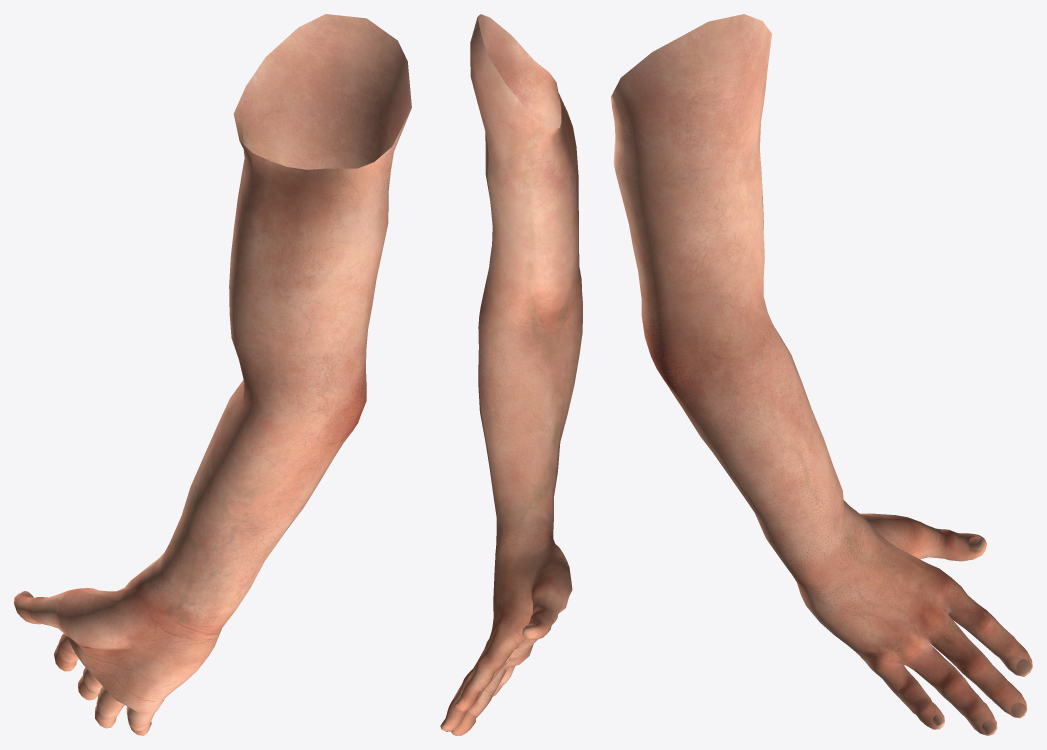
Rendered from HandMesh.fbx.
3 views of the same model, side by side, from view 1: azimuth 30°, elevation 25°; view 2: azimuth 150°, elevation 25°; view 3: azimuth 270°, elevation 25° (orthographic). The views are drawn at different scales.
Visible parts, largest first — view 1: HandMesh; view 2: HandMesh; view 3: HandMesh.
Boxes of the visible parts, x1,y1,x2,y2 form: HandMesh: (14,14,411,735); HandMesh: (440,14,582,735); HandMesh: (611,14,1032,735).
Size of the model in its own units: 3.2 by 10.3 by 5.11.
